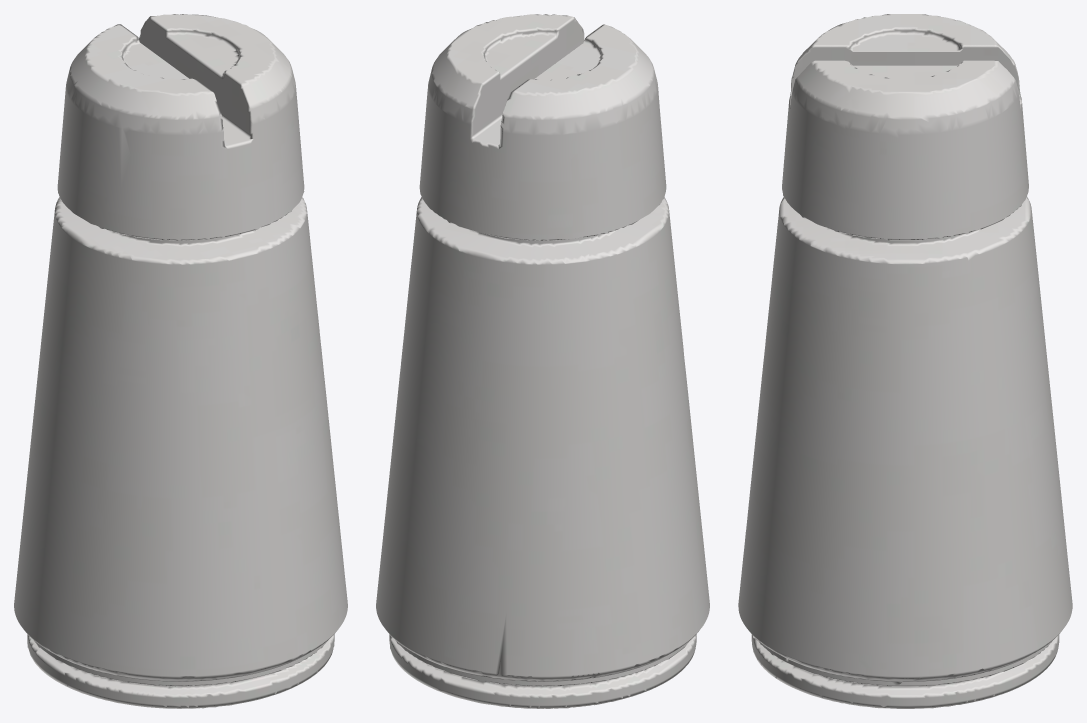
The model's file is rook-white-hd.glb.
The picture shows the model from 3 angles, left to right: view 1: azimuth 30°, elevation 25°; view 2: azimuth 150°, elevation 25°; view 3: azimuth 270°, elevation 25°; orthographic projection.
Parts seen in each view (by area): view 1: 05_vez_bila; view 2: 05_vez_bila; view 3: 05_vez_bila.
Part boxes in pixels (x1,y1,x2,y2): 05_vez_bila: [14, 14, 347, 708]; 05_vez_bila: [376, 14, 709, 708]; 05_vez_bila: [738, 14, 1072, 708].
Size of the model in its own units: 0.5928 by 1.16 by 0.5931.
Materials: 1 (1 with a texture image).
